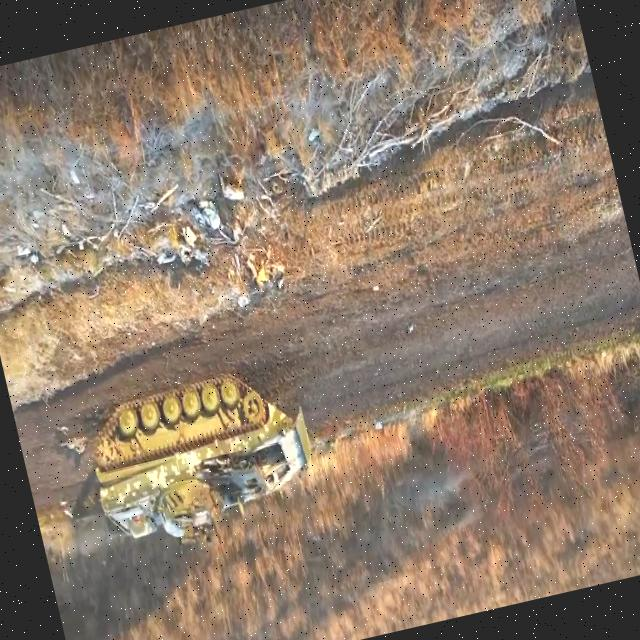AIFV: (80, 360, 330, 566)
